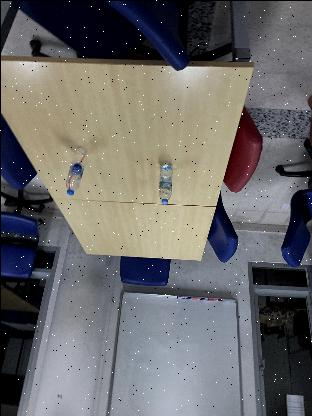Plastic Bottle: (65, 146, 85, 194), (158, 160, 172, 204)
